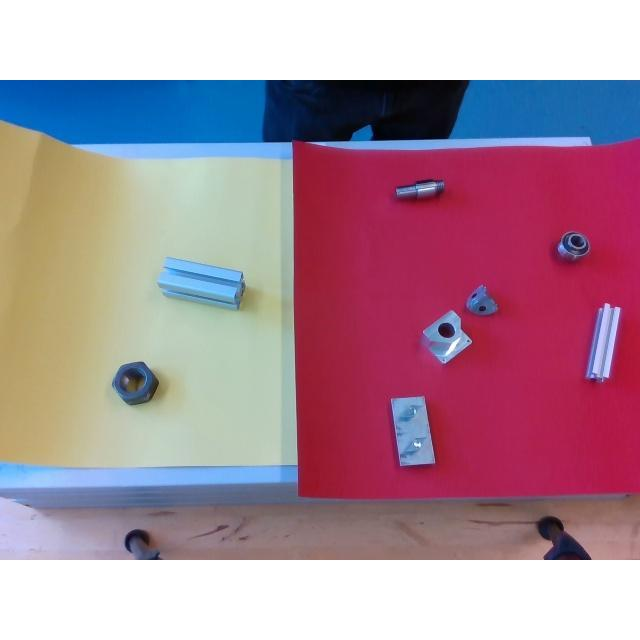Axis2: (393, 178, 447, 200)
Bearing2: (558, 230, 590, 256)
F20_20_G: (588, 304, 620, 381)
M30: (112, 361, 158, 403)
S40_40_G: (157, 256, 243, 308)
